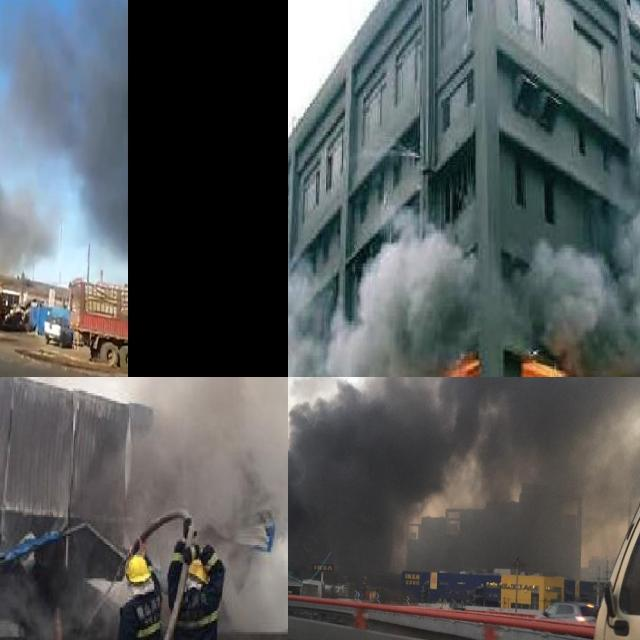fire: (518, 354, 564, 377), (444, 353, 481, 377)
smoke: (288, 377, 640, 563), (523, 34, 640, 377), (0, 0, 127, 266), (288, 215, 469, 377), (139, 377, 288, 500), (224, 537, 288, 631)
